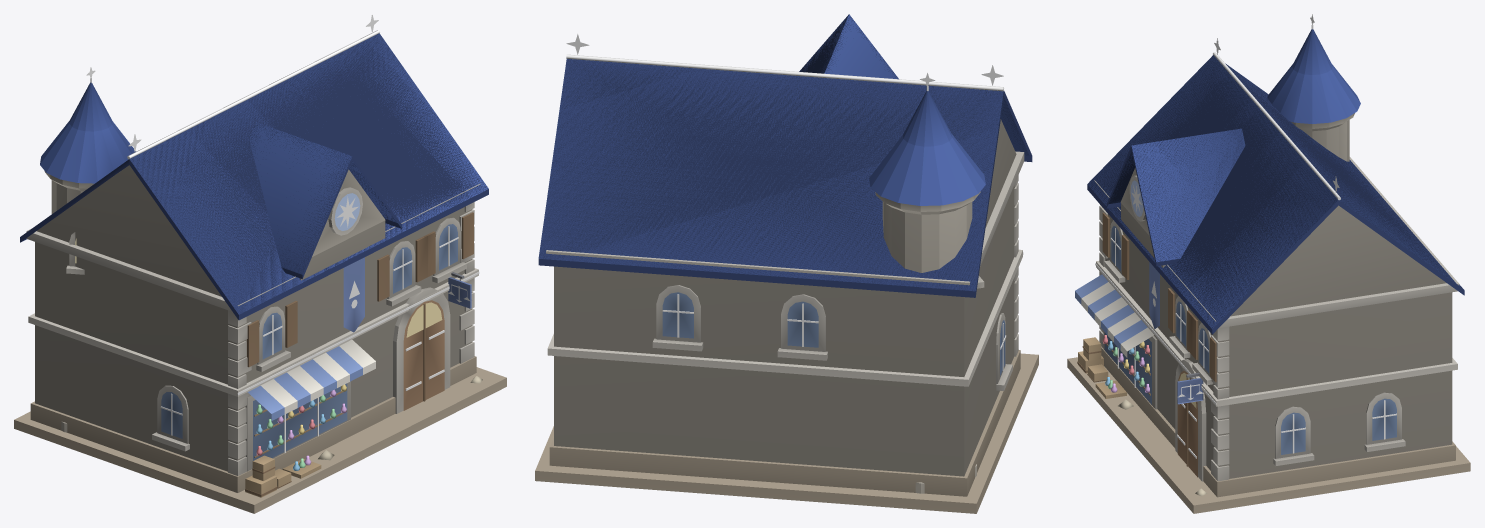
The model's file is guild_hq.glb.
3 renders of one model, left to right at view 1: azimuth 30°, elevation 25°; view 2: azimuth 150°, elevation 25°; view 3: azimuth 270°, elevation 25°, orthographic. The views are drawn at different scales.
Visible parts, largest first — view 1: Guild_stone, Guild_roof, Guild_props, Guild_gold, Guild_glow; view 2: Guild_stone, Guild_roof, Guild_gold, Guild_props; view 3: Guild_stone, Guild_roof, Guild_props, Guild_gold, Guild_glow.
Part boxes in pixels (x1,y1,x2,y2): Guild_stone: (14,165,506,513); Guild_roof: (20,33,488,320); Guild_props: (161,212,482,497); Guild_gold: (86,15,479,453); Guild_glow: (75,193,442,470); Guild_stone: (535,119,1038,513); Guild_roof: (538,14,1032,297); Guild_gold: (566,34,1023,370); Guild_props: (662,292,1005,376); Guild_stone: (1067,113,1470,513); Guild_roof: (1087,29,1464,334); Guild_props: (1075,212,1396,496); Guild_gold: (1095,14,1396,458); Guild_glow: (1102,180,1196,408).
Bounding box in the file's own units: 12 × 10 × 10.81.
